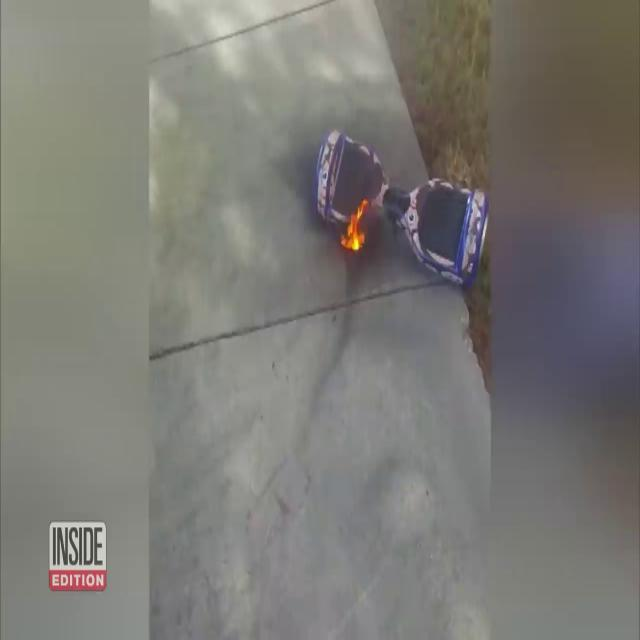Fire: (342, 194, 372, 254)
